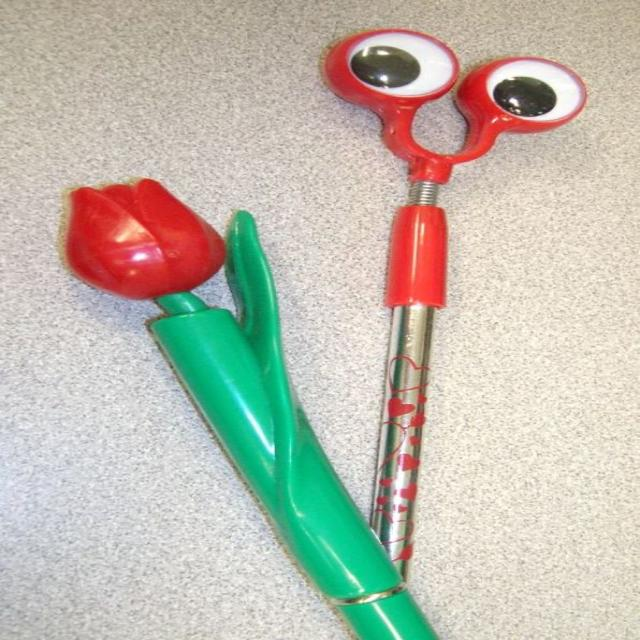pen: (63, 171, 441, 639)
